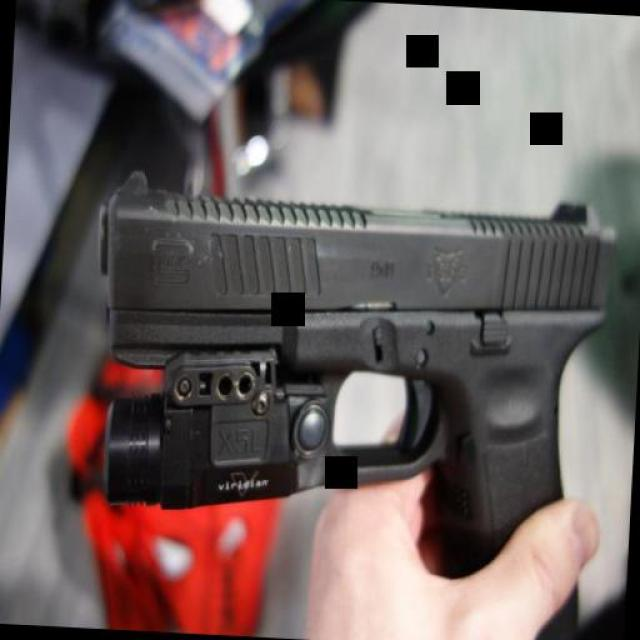gun: (73, 167, 621, 640)
